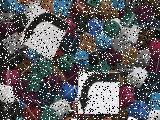Left: (19, 4, 70, 60), (78, 72, 120, 114)
